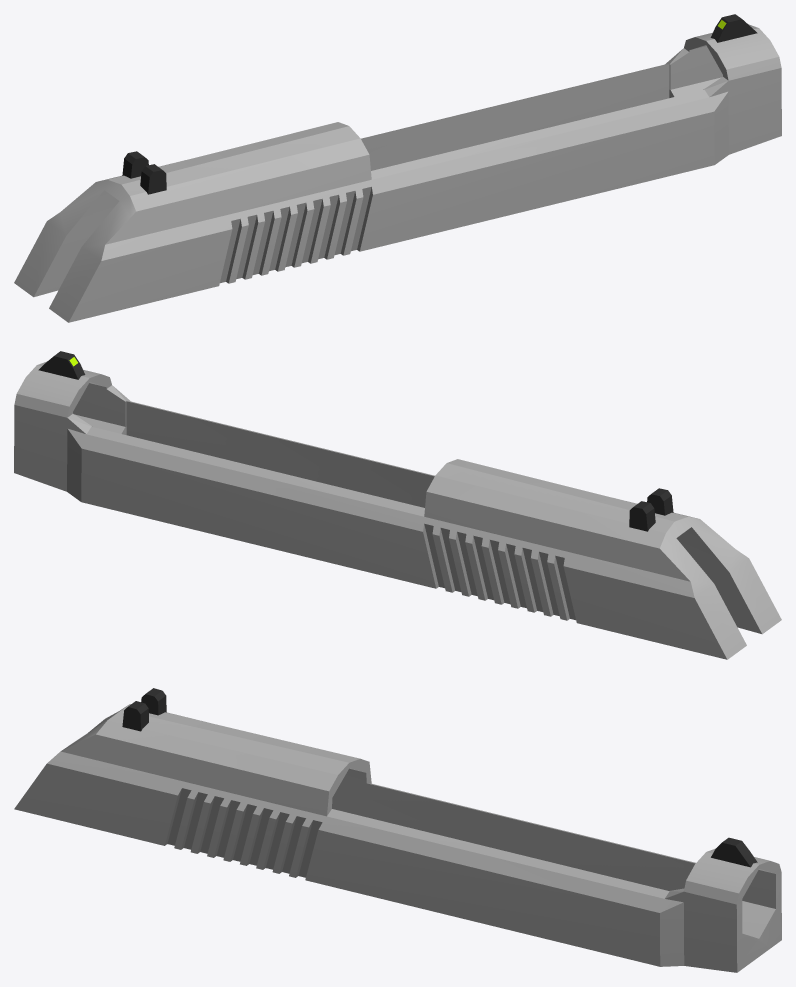
Rendered from Pistol1_03_2.fbx.
3 renders of one model, top to bottom at view 1: azimuth 30°, elevation 25°; view 2: azimuth 150°, elevation 25°; view 3: azimuth 330°, elevation 25°, orthographic.
Parts seen in each view (by area): view 1: Pistol1_03_2; view 2: Pistol1_03_2; view 3: Pistol1_03_2.
Boxes of the visible parts, x1=… form: Pistol1_03_2: x1=14, y1=14, x2=781, y2=322; Pistol1_03_2: x1=14, y1=351, x2=781, y2=659; Pistol1_03_2: x1=14, y1=688, x2=781, y2=972.
Size of the model in its own units: 0.2348 by 0.0363 by 0.0308.
